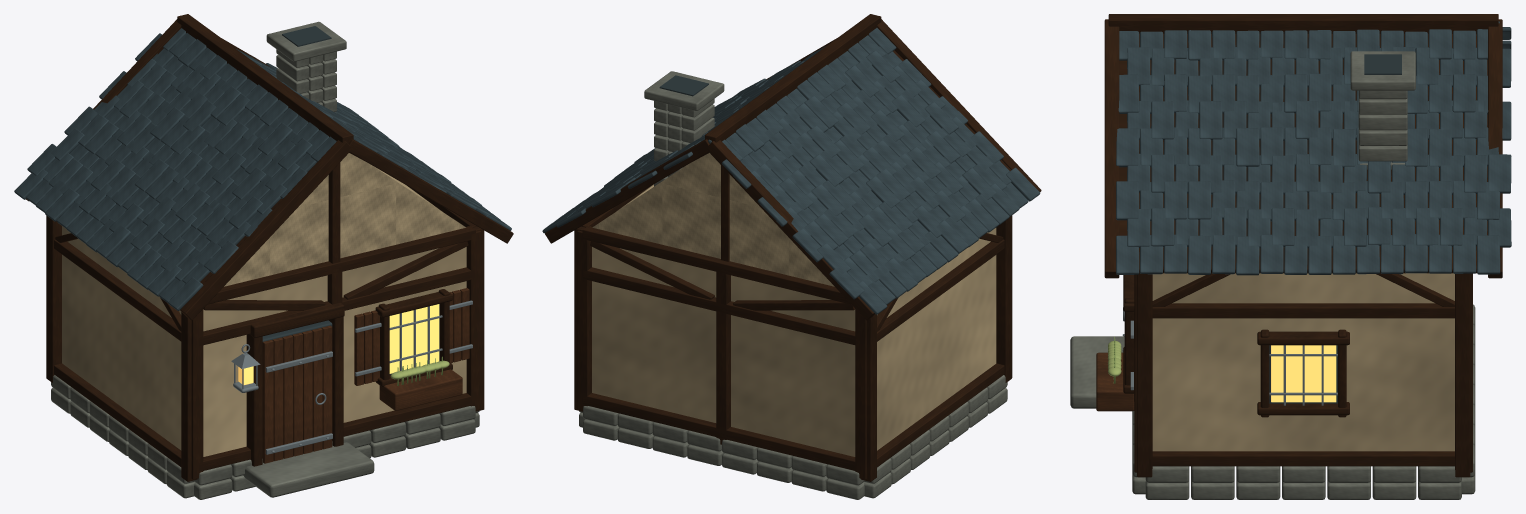
File: cottage.glb
3 views of the same model, side by side, from view 1: azimuth 30°, elevation 25°; view 2: azimuth 150°, elevation 25°; view 3: azimuth 270°, elevation 25° (orthographic). The views are drawn at different scales.
Visible parts, largest first — view 1: Overlapping split shingle.810, Oak upright.012, Limewashed infill.002, Foundation stone.116, Individual door plank.014, Forged door hinge.004, Amber window pane.004, Door recess.002; view 2: Limewashed infill.002, Overlapping split shingle.810, Oak upright.012, Foundation stone.116, Door recess.002; view 3: Overlapping split shingle.810, Limewashed infill.002, Oak upright.012, Foundation stone.116, Amber window pane.004, Individual door plank.014, Forged door hinge.004, Door recess.002.
Part boxes in pixels (left/top/right/bottom): Overlapping split shingle.810: left=14, top=28, right=511, bottom=310; Oak upright.012: left=26, top=14, right=513, bottom=481; Limewashed infill.002: left=62, top=153, right=466, bottom=456; Foundation stone.116: left=51, top=21, right=479, bottom=499; Individual door plank.014: left=262, top=288, right=469, bottom=463; Forged door hinge.004: left=231, top=300, right=472, bottom=454; Amber window pane.004: left=238, top=304, right=439, bottom=385; Door recess.002: left=262, top=26, right=439, bottom=374; Limewashed infill.002: left=592, top=153, right=996, bottom=456; Overlapping split shingle.810: left=542, top=28, right=1040, bottom=314; Oak upright.012: left=545, top=14, right=1041, bottom=481; Foundation stone.116: left=579, top=71, right=1007, bottom=499; Door recess.002: left=659, top=75, right=708, bottom=96; Overlapping split shingle.810: left=1116, top=21, right=1511, bottom=275; Limewashed infill.002: left=1152, top=273, right=1454, bottom=451; Oak upright.012: left=1104, top=14, right=1502, bottom=477; Foundation stone.116: left=1070, top=51, right=1475, bottom=499; Amber window pane.004: left=1271, top=345, right=1336, bottom=402; Individual door plank.014: left=1096, top=309, right=1134, bottom=411; Forged door hinge.004: left=1122, top=307, right=1337, bottom=405; Door recess.002: left=1269, top=54, right=1401, bottom=403.
Size of the model in its own units: 5.33 by 5.13 by 5.13.
10 materials, 5 textured.
